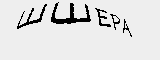А: (119, 17, 137, 37)
Е: (94, 5, 110, 29)
Р: (108, 13, 122, 32)
Ш: (13, 2, 46, 32), (52, 1, 90, 27)
